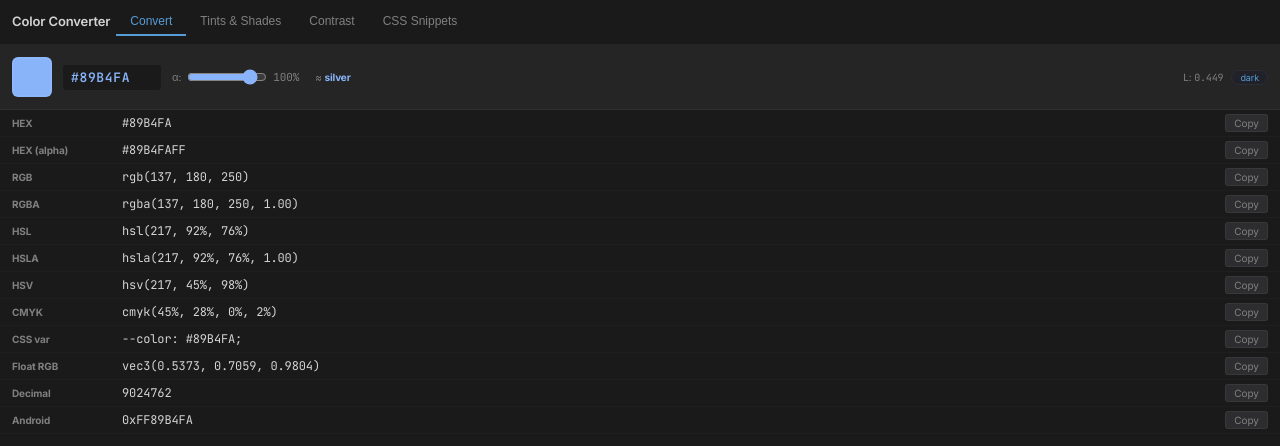
Test: ColorConverterPanel › clicking a tint swatch changes the active color
Click the button "Tints & Shades": (241, 22) [186,8,295,36]
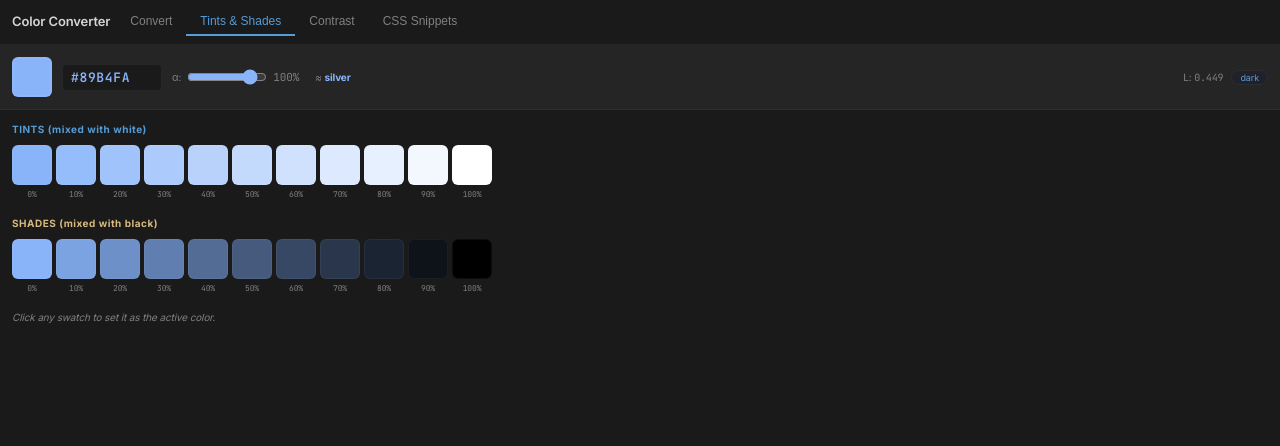
Click the 1st button "100%": (472, 172) [452,145,492,200]
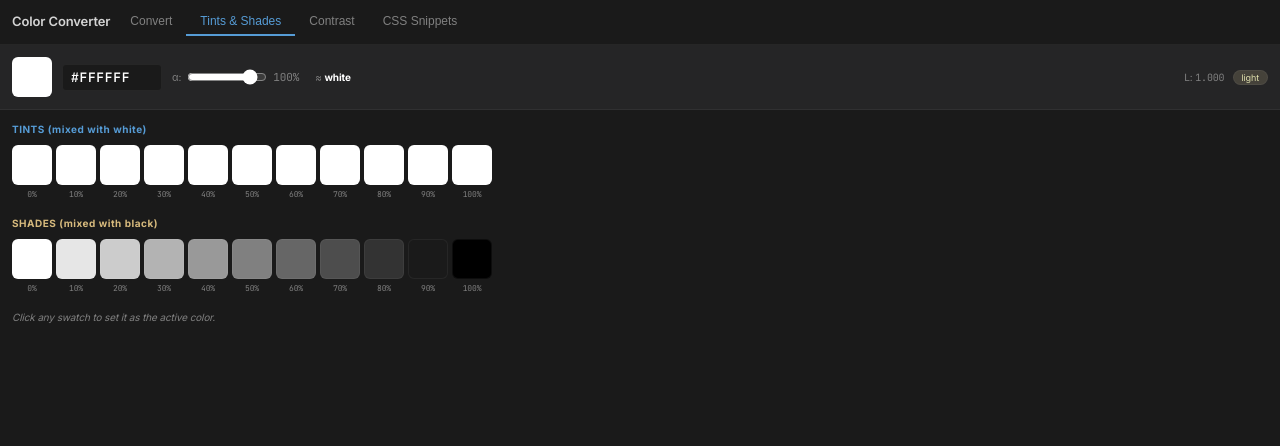
Check: the field named "Hex color" holds "#FFFFFF", box [62,64,162,90]
